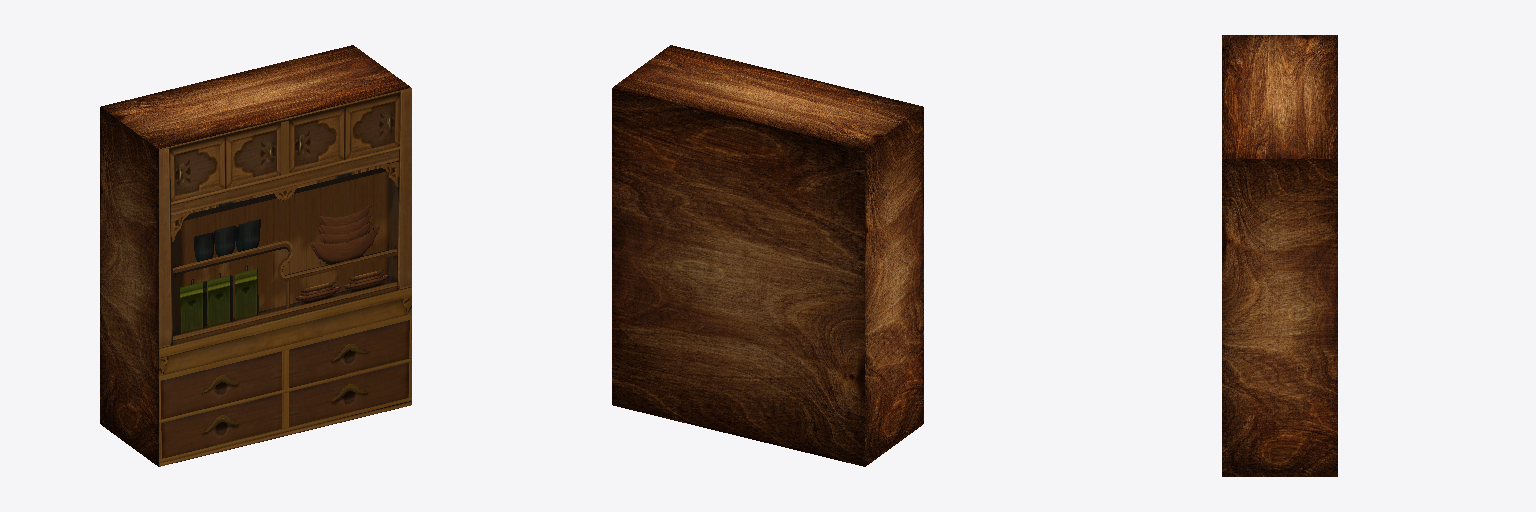
The picture shows the model from 3 angles: view 1: azimuth 30°, elevation 25°; view 2: azimuth 150°, elevation 25°; view 3: azimuth 270°, elevation 25°; orthographic projection.
Parts seen in each view (by area): view 1: pCube1; view 2: pCube1; view 3: pCube1.
Part boxes in pixels (bbox=[...]): pCube1: bbox=[100, 45, 411, 466]; pCube1: bbox=[612, 45, 923, 466]; pCube1: bbox=[1222, 35, 1337, 476].
Size of the model in its own units: 10 by 12 by 4.
2 materials, 2 textured.